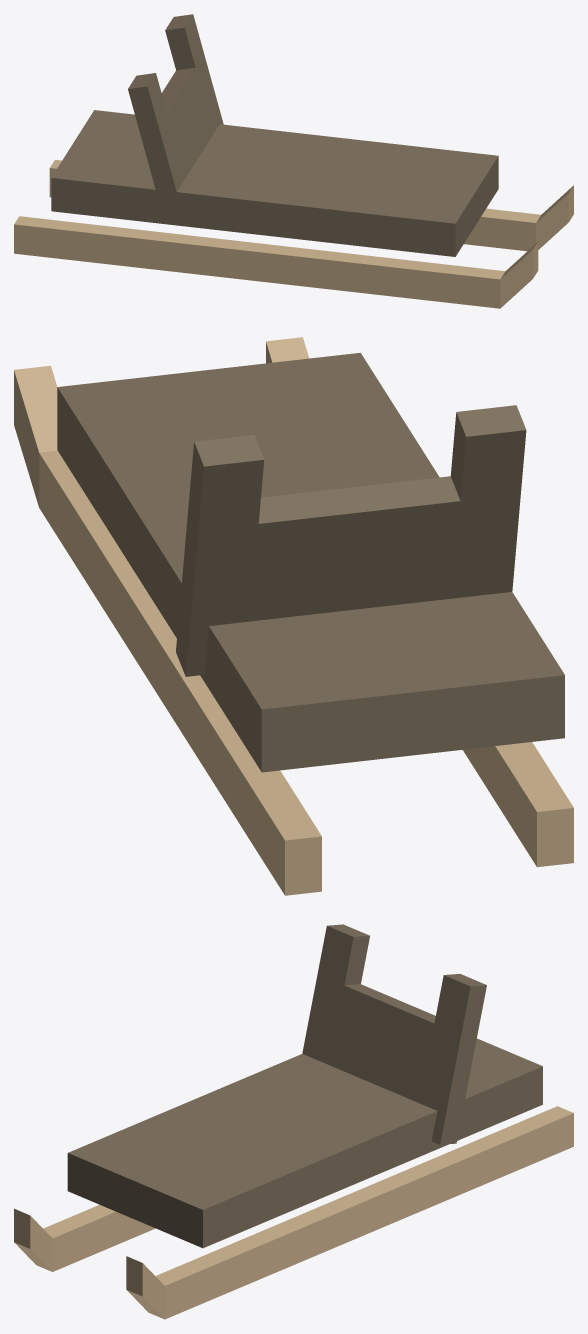
File: Traineau.fbx
3 renders of one model, top to bottom at view 1: azimuth 30°, elevation 25°; view 2: azimuth 150°, elevation 25°; view 3: azimuth 270°, elevation 25°, orthographic. The views are drawn at different scales.
Parts seen in each view (by area): view 1: Cube, pb_MergedObject_718650, Cube__1_, Cube__2_, Cube__3_; view 2: Cube, pb_MergedObject_718650, Cube__1_, Cube__3_, Cube__2_; view 3: Cube, pb_MergedObject_718650, Cube__1_, Cube__3_, Cube__2_.
Boxes of the visible parts, x1,y1,x2,y2 form: Cube: (51,110,498,256); pb_MergedObject_718650: (14,159,573,308); Cube__1_: (158,59,219,191); Cube__2_: (128,73,183,219); Cube__3_: (165,14,223,124); Cube: (57,352,564,772); pb_MergedObject_718650: (14,337,573,895); Cube__1_: (250,476,460,621); Cube__3_: (176,435,264,676); Cube__2_: (450,405,526,598); Cube: (67,1038,542,1248); pb_MergedObject_718650: (14,1106,573,1319); Cube__1_: (302,974,452,1110); Cube__3_: (431,974,486,1144); Cube__2_: (317,924,369,985).
Bounding box in the file's own units: 265 × 109 × 261.
